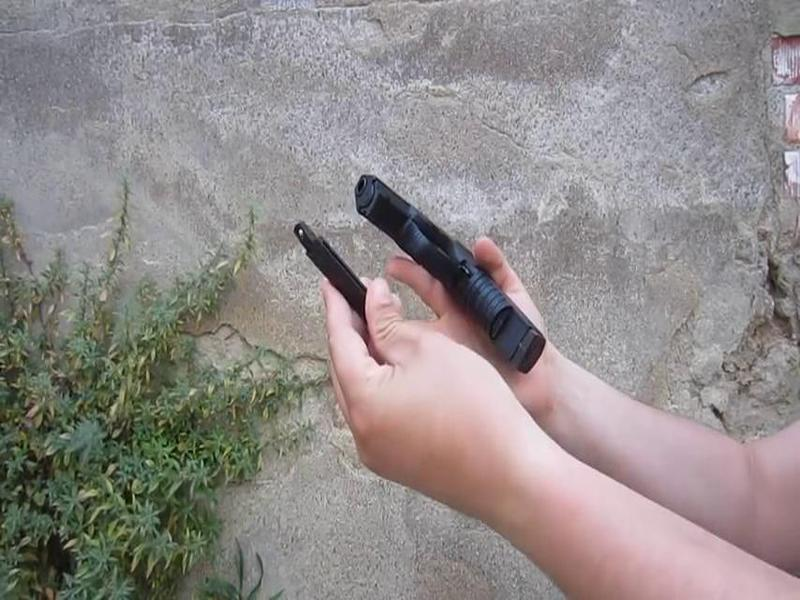Pistola: (326, 181, 569, 367)
